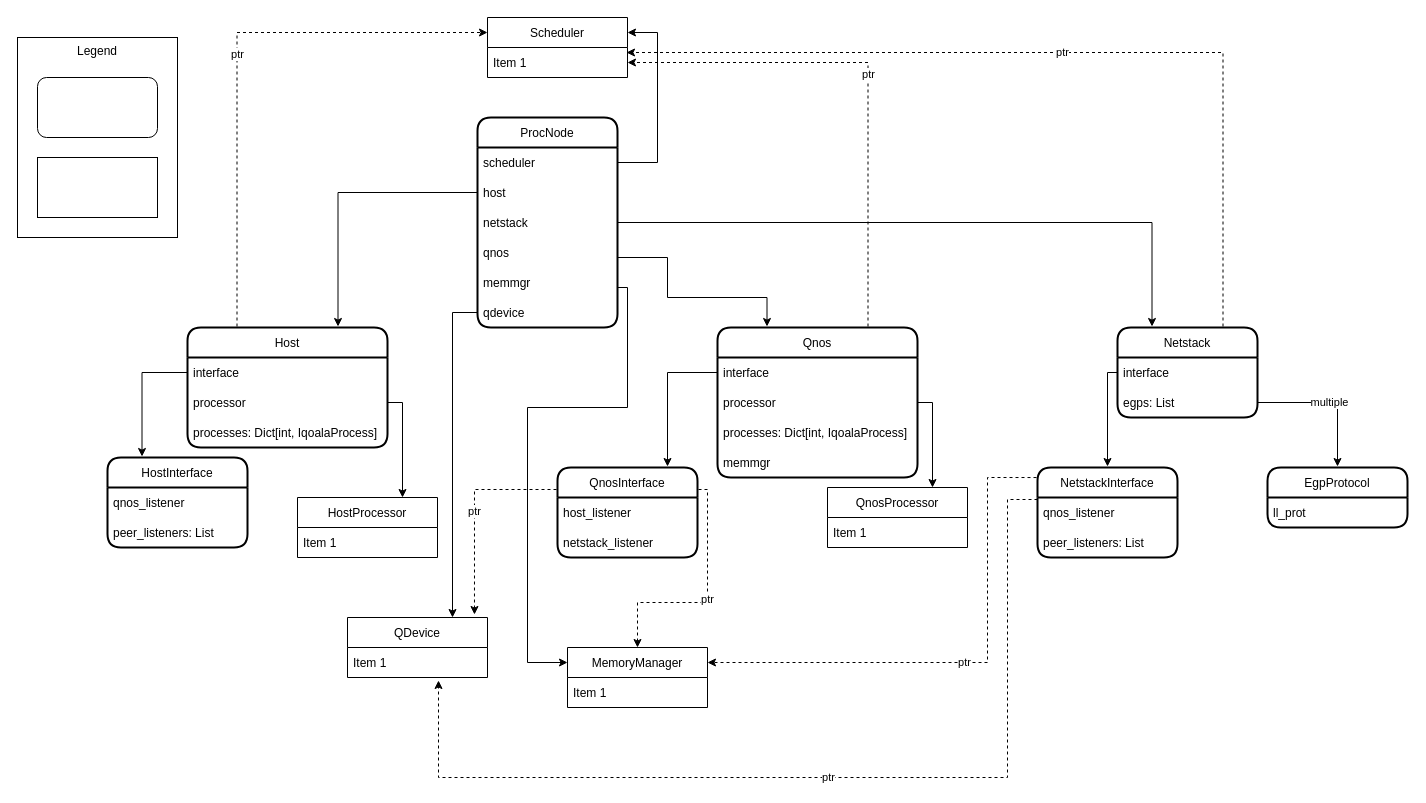
The diagram is 1426 pixels wide and 803 high, and some of its shapes have lost their labels. Here are the shapes that lost their labels. From the top down, the centre of each, then its label:
At point 97,107: "Protocol".
At point 97,187: "Component".
